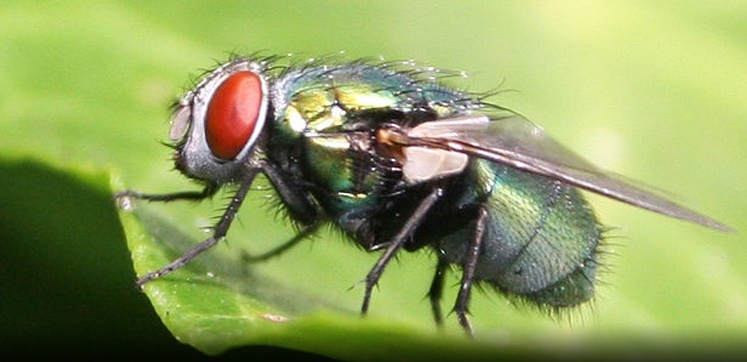green bottles flies: (115, 14, 740, 342)
